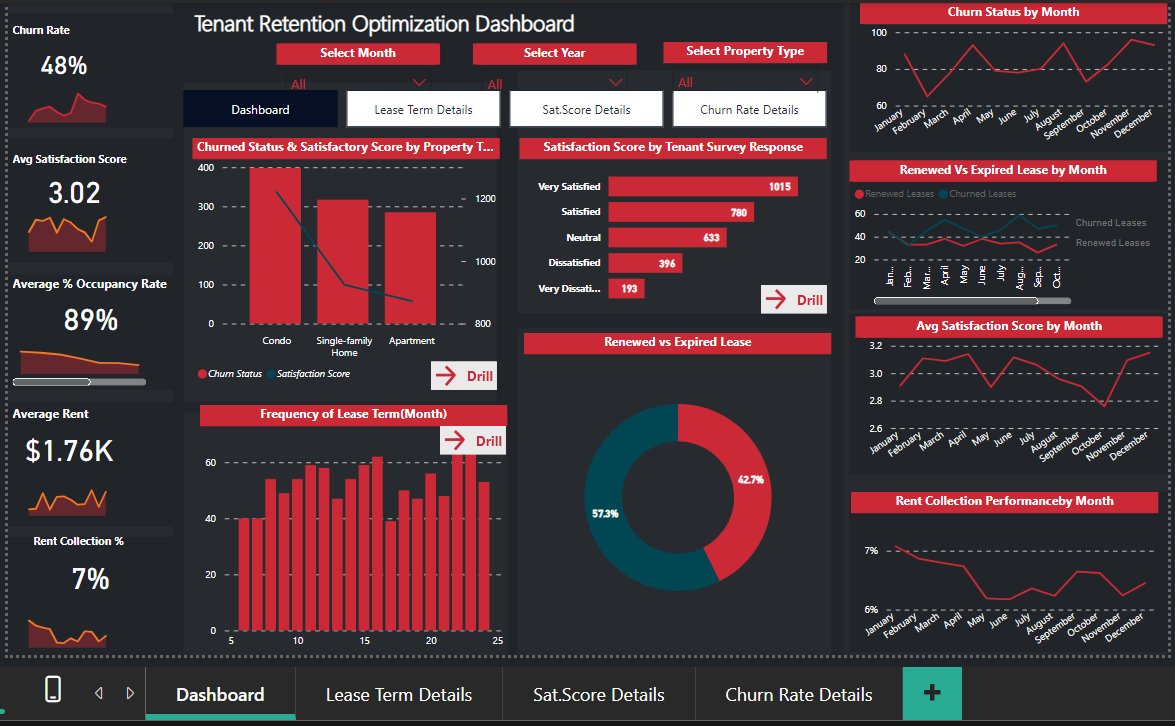

The page's visual inventory and layout, read from the dashboard file:
{"tool":"powerbi","page":{"name":"Dashboard","canvas":[1280,720],"ordinal":0},"visuals":[{"type":"shape","box":[922.7,0,357.8,720.6],"z":1000},{"type":"shape","box":[0,0,182.2,720.6],"z":2000},{"type":"shape","box":[193.8,452.2,357.8,268.3],"z":3000},{"type":"shape","box":[563.2,359.5,346.2,361.1],"z":4000},{"type":"shape","box":[193.8,87.8,346.2,352.8],"z":5000},{"type":"shape","box":[563.2,74.5,346.2,268.3],"z":6000},{"type":"textbox","box":[200.4,0,439,62.9],"z":7000},{"type":"pageNavigator","box":[193.8,96.1,710.6,41.4],"z":8000},{"type":"shape","box":[0,11.6,182.2,125.9],"z":9000},{"type":"shape","box":[0,149.1,182.2,137.5],"z":10000},{"type":"shape","box":[0,299.8,182.2,127.5],"z":11000},{"type":"shape","box":[0,440.6,182.2,137.5],"z":12000},{"type":"shape","box":[0,589.7,182.2,130.9],"z":13000},{"type":"card","title":"Churn Rate","fields":{"Values":["Measures Table.Churn Rate"]},"box":[0,21.5,122.6,74.5],"z":14000},{"type":"card","title":"Avg Satisfaction Score","fields":{"Values":["Measures Table.Average Satisfaction Score"]},"box":[0,163.2,145.8,69.6],"z":15000},{"type":"card","title":"Average % Occupancy Rate","fields":{"Values":["Avg(property_information.Historical Occupancy Rate Decimal)"]},"box":[0,299.8,182.2,76.2],"z":16000},{"type":"card","title":"Average Rent","fields":{"Values":["Measures Table.Average rent"]},"box":[0,443.1,134.2,76.2],"z":17000},{"type":"card","title":"Rent Collection %","fields":{"Values":["Measures Table.Rent Collection Performance"]},"box":[23.2,586.4,134.2,76.2],"z":18000},{"type":"areaChart","fields":{"Y":["Measures Table.Churn Rate"],"Category":["Start Date.Month"]},"box":[0,76.2,145.8,61.3],"z":19000},{"type":"areaChart","fields":{"Category":["Start Date.Month"],"Y":["Measures Table.Average Satisfaction Score"]},"box":[0,218.7,145.8,61.3],"z":20000},{"type":"areaChart","fields":{"Category":["Start Date.MonthName"],"Y":["Measures Table.Current Occupancy Rate"]},"box":[0,364.4,157.4,62.9],"z":21000},{"type":"areaChart","fields":{"Category":["Start Date.Month"],"Y":["Measures Table.Average rent"]},"box":[0,510.2,145.8,61.3],"z":22000},{"type":"areaChart","fields":{"Category":["Start Date.Month"],"Y":["Measures Table.Rent Collection Performance"]},"box":[0,656,145.8,61.3],"z":23000},{"type":"shape","box":[929.3,173.9,351.2,164],"z":27000},{"type":"shape","box":[929.3,0,351.2,164],"z":29000},{"type":"shape","box":[929.3,540,351.2,177.2],"z":30000},{"type":"lineChart","title":"Churn Status by Month","fields":{"Y":["CountNonNull(lease_details.Churn Status)"],"Category":["Start Date.MonthName"]},"box":[940.9,0,339.6,164],"z":31000},{"type":"lineChart","title":"Renewed Vs Expired Lease by Month","fields":{"Category":["Start Date.MonthName"],"Y":["Measures Table.Active Leases","Measures Table.Churned Leases"]},"box":[929.3,173.9,339.6,164],"z":31500},{"type":"shape","box":[929.3,342.9,351.2,177.2],"z":32000},{"type":"lineChart","title":"Avg Satisfaction Score by Month","fields":{"Category":["Start Date.MonthName"],"Y":["Measures Table.Average Satisfaction Score"]},"box":[935.9,346.2,339.6,173.9],"z":32500},{"type":"lineChart","title":"Rent Collection Performanceby Month","fields":{"Category":["Start Date.MonthName"],"Y":["Measures Table.Rent Collection Performance"]},"box":[930.9,540,339.6,180.6],"z":33000},{"type":"lineStackedColumnComboChart","title":"Churned Status & Satisfactory Score by Property Type","fields":{"Y":["CountNonNull(lease_details.Churn Status)"],"Category":["property_information.Property Type"],"Y2":["Sum(tenant_information & Feedback.Satisfaction Score)"]},"box":[203.7,149.1,339.6,278.3],"z":33001},{"type":"columnChart","title":"Frequency of Lease Term(Month)","fields":{"Category":["lease_details.Lease Term (Months)"],"Y":["CountNonNull(lease_details.Lease ID)"]},"box":[212,443.9,339.6,276.6],"z":33002},{"type":"donutChart","title":"Renewed vs Expired Lease","fields":{"Y":["Measures Table.Active Leases","Measures Table.Churned Leases"]},"box":[569.8,364.4,339.6,344.5],"z":33003},{"type":"clusteredBarChart","title":"Satisfaction Score by Tenant Survey Response","fields":{"Category":["tenant_information & Feedback.Survey Response"],"Y":["Sum(tenant_information & Feedback.Satisfaction Score)"]},"box":[564.9,149.1,339.6,193.8],"z":33004},{"type":"actionButton","box":[477.1,467.1,72.9,31.5],"z":33005},{"type":"actionButton","box":[467.1,395.9,72.9,31.5],"z":33006},{"type":"actionButton","box":[831.6,311.4,72.9,31.5],"z":33007},{"type":"slicer","title":"Select Month","fields":{"Values":["Start Date.MonthName"]},"box":[296.5,44.7,180.6,51.4],"z":33008},{"type":"slicer","title":"Select Year","fields":{"Values":["Start Date.Year"]},"box":[513.5,44.7,180.6,51.4],"z":33009},{"type":"slicer","title":"Select Property Type","fields":{"Values":["property_information.Property Type"]},"box":[723.9,43.1,180.6,56.3],"z":33010}]}

Visuals, with their boxes on the page's 1280x720 design canvas (x1, y1, x2, y2). These are canvas units, not pixel positions in the 1175x726 screenshot, which may show the page scaled, cropped or inside an application window:
shape: 923 0 1280 721
shape: 0 0 182 721
shape: 194 452 552 720
shape: 563 360 909 721
shape: 194 88 540 441
shape: 563 74 909 343
textbox: 200 0 639 63
pageNavigator: 194 96 904 138
shape: 0 12 182 138
shape: 0 149 182 287
shape: 0 300 182 427
shape: 0 441 182 578
shape: 0 590 182 721
"Churn Rate" card: 0 22 123 96
"Avg Satisfaction Score" card: 0 163 146 233
"Average % Occupancy Rate" card: 0 300 182 376
"Average Rent" card: 0 443 134 519
"Rent Collection %" card: 23 586 157 663
areaChart - Measures Table.Churn Rate x Start Date.Month: 0 76 146 138
areaChart - Start Date.Month x Measures Table.Average Satisfaction Score: 0 219 146 280
areaChart - Start Date.MonthName x Measures Table.Current Occupancy Rate: 0 364 157 427
areaChart - Start Date.Month x Measures Table.Average rent: 0 510 146 572
areaChart - Start Date.Month x Measures Table.Rent Collection Performance: 0 656 146 717
shape: 929 174 1280 338
shape: 929 0 1280 164
shape: 929 540 1280 717
"Churn Status by Month" lineChart: 941 0 1280 164
"Renewed Vs Expired Lease by Month" lineChart: 929 174 1269 338
shape: 929 343 1280 520
"Avg Satisfaction Score by Month" lineChart: 936 346 1276 520
"Rent Collection Performanceby Month" lineChart: 931 540 1270 721
"Churned Status & Satisfactory Score by Property Type" lineStackedColumnComboChart: 204 149 543 427
"Frequency of Lease Term(Month)" columnChart: 212 444 552 720
"Renewed vs Expired Lease" donutChart: 570 364 909 709
"Satisfaction Score by Tenant Survey Response" clusteredBarChart: 565 149 904 343
actionButton: 477 467 550 499
actionButton: 467 396 540 427
actionButton: 832 311 904 343
"Select Month" slicer: 296 45 477 96
"Select Year" slicer: 514 45 694 96
"Select Property Type" slicer: 724 43 904 99
